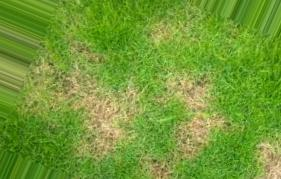patch: (77, 91, 128, 118), (174, 112, 215, 143), (162, 77, 208, 99), (80, 127, 126, 147), (152, 13, 177, 46), (148, 148, 177, 174), (252, 140, 278, 167), (78, 71, 114, 88), (42, 80, 70, 99)
